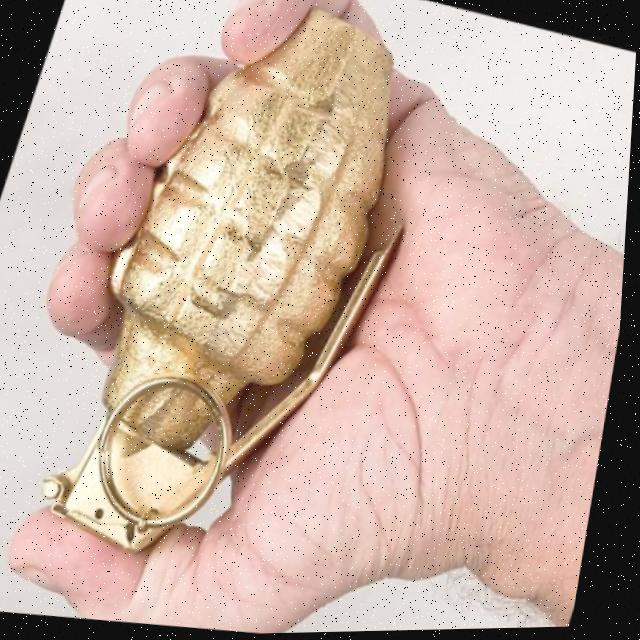grenade: (11, 0, 480, 626)
